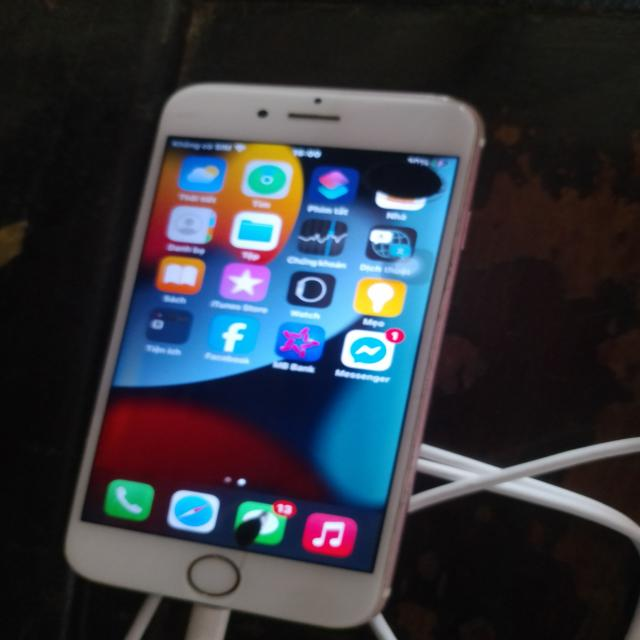gen_6: (60, 70, 497, 628)
